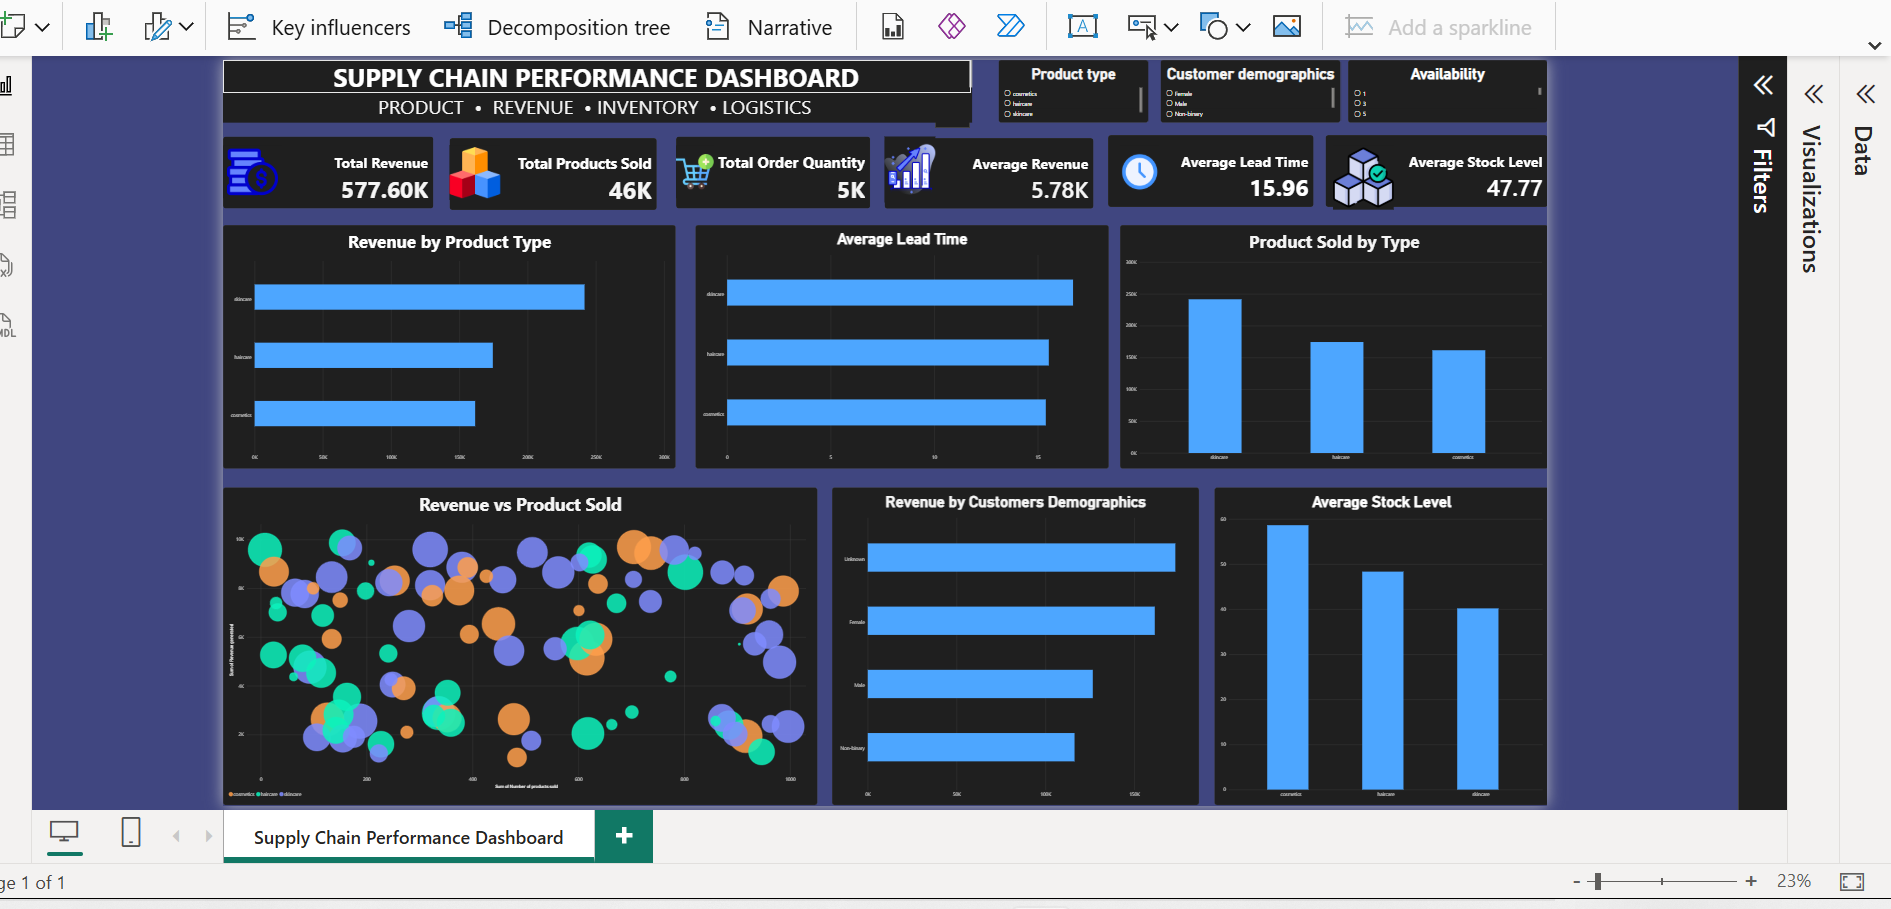

Layout of this report page (visuals, bound fields, positions):
{"tool":"powerbi","page":{"name":"Supply Chain Performance Dashboard","canvas":[3840,2160],"ordinal":0},"visuals":[{"type":"textbox","box":[0,0,1606.5,95.4],"z":0},{"type":"textbox","box":[0,0,2171.2,95.4],"z":1000},{"type":"cardVisual","fields":{"Data":["Table1.Total Revenue"]},"box":[0,223.8,610.8,210],"z":2000},{"type":"cardVisual","fields":{"Data":["Table1.Total Products Sold"]},"box":[658.5,224.3,601.3,210],"z":3000},{"type":"cardVisual","fields":{"Data":["Table1.Total Order Quantity"]},"box":[1314.3,223.8,563.1,210],"z":4000},{"type":"cardVisual","fields":{"Data":["Table1.Average Revenue"]},"box":[1918.3,224.3,606,205.2],"z":5000},{"type":"cardVisual","fields":{"Data":["Table1.Average Lead Time"]},"box":[2567.2,219.5,596.5,210],"z":6000},{"type":"cardVisual","fields":{"Data":["Table1.Average Stock Level"]},"box":[3197.1,219.5,644.2,210],"z":7000},{"type":"clusteredBarChart","title":"Revenue  by Product Type","fields":{"Category":["Table1.Product type"],"Y":["Table1.Total Revenue"]},"box":[0,477.2,1312.3,706.2],"z":8000},{"type":"clusteredColumnChart","title":"Product Sold by Type","fields":{"Category":["Table1.Product type"],"Y":["Table1.Total Revenue"]},"box":[2600.6,477.2,1240.7,706.2],"z":9000},{"type":"clusteredBarChart","title":"Average Lead Time ","fields":{"Category":["Table1.Product type"],"Y":["Table1.Average Lead Time"]},"box":[1369.5,477.2,1197.7,706.2],"z":10000},{"type":"clusteredColumnChart","title":"Average Stock Level ","fields":{"Category":["Table1.Product type"],"Y":["Table1.Average Stock Level"]},"box":[2872.6,1240.7,968.7,921],"z":11000},{"type":"scatterChart","title":"Revenue vs Product Sold ","fields":{"X":["Sum(Table1.Number of products sold)"],"Y":["Sum(Table1.Revenue generated)"],"Category":["Table1.SKU"],"Series":["Table1.Product type"],"Size":["Sum(Table1.Order quantities)"]},"box":[0,1240.7,1722.6,921],"z":12000},{"type":"clusteredBarChart","title":"Revenue by Customers Demographics ","fields":{"Category":["Table1.Customer demographics"],"Y":["Table1.Total Revenue"]},"box":[1765.6,1240.7,1064.1,921],"z":13000},{"type":"textbox","box":[0,95.4,2171.2,85.9],"z":14000},{"type":"listSlicer","fields":{"Values":["Table1.Product type"]},"box":[2247.5,0,434.2,181.3],"z":14001},{"type":"listSlicer","fields":{"Values":["Table1.Customer demographics"]},"box":[2715.7,0,521.4,181.4],"z":14002},{"type":"listSlicer","fields":{"Values":["Table1.Availability"]},"box":[3262.9,0,577.1,181.4],"z":14003},{"type":"image","box":[0,247.6,171.4,152.4],"z":14004},{"type":"image","box":[657.1,247.6,147.6,157.1],"z":14005},{"type":"image","box":[1314.3,247.6,109.5,152.4],"z":14006},{"type":"image","box":[1919,223.8,147.6,190.5],"z":14007},{"type":"image","box":[2600,247.6,114.3,152.4],"z":14008},{"type":"image","box":[3219,247.6,176.2,185.7],"z":14009}]}

Visuals, with their boxes on the page's 3840x2160 design canvas (x1, y1, x2, y2). These are canvas units, not pixel positions in the 1891x909 screenshot, which may show the page scaled, cropped or inside an application window:
textbox: 0 0 1606 95
textbox: 0 0 2171 95
cardVisual - Table1.Total Revenue: 0 224 611 434
cardVisual - Table1.Total Products Sold: 658 224 1260 434
cardVisual - Table1.Total Order Quantity: 1314 224 1877 434
cardVisual - Table1.Average Revenue: 1918 224 2524 430
cardVisual - Table1.Average Lead Time: 2567 220 3164 430
cardVisual - Table1.Average Stock Level: 3197 220 3841 430
"Revenue  by Product Type" clusteredBarChart: 0 477 1312 1183
"Product Sold by Type" clusteredColumnChart: 2601 477 3841 1183
"Average Lead Time " clusteredBarChart: 1370 477 2567 1183
"Average Stock Level " clusteredColumnChart: 2873 1241 3841 2162
"Revenue vs Product Sold " scatterChart: 0 1241 1723 2162
"Revenue by Customers Demographics " clusteredBarChart: 1766 1241 2830 2162
textbox: 0 95 2171 181
listSlicer - Table1.Product type: 2248 0 2682 181
listSlicer - Table1.Customer demographics: 2716 0 3237 181
listSlicer - Table1.Availability: 3263 0 3840 181
image: 0 248 171 400
image: 657 248 805 405
image: 1314 248 1424 400
image: 1919 224 2067 414
image: 2600 248 2714 400
image: 3219 248 3395 433
